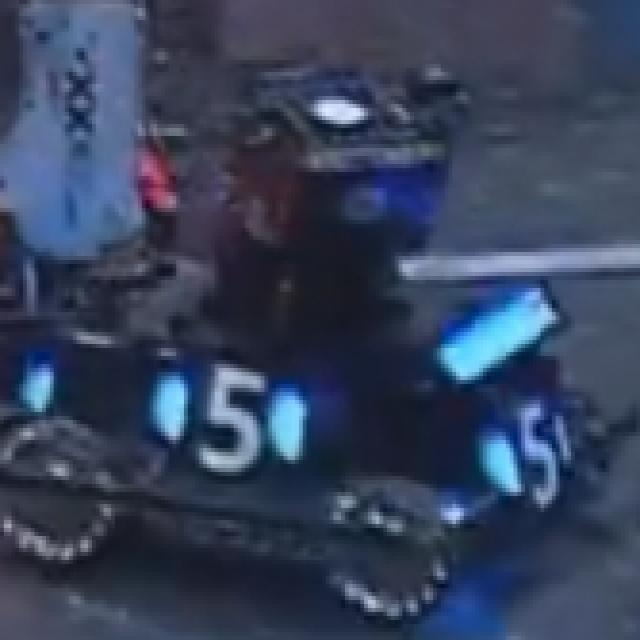B5: (157, 356, 295, 468), (494, 392, 571, 504)
